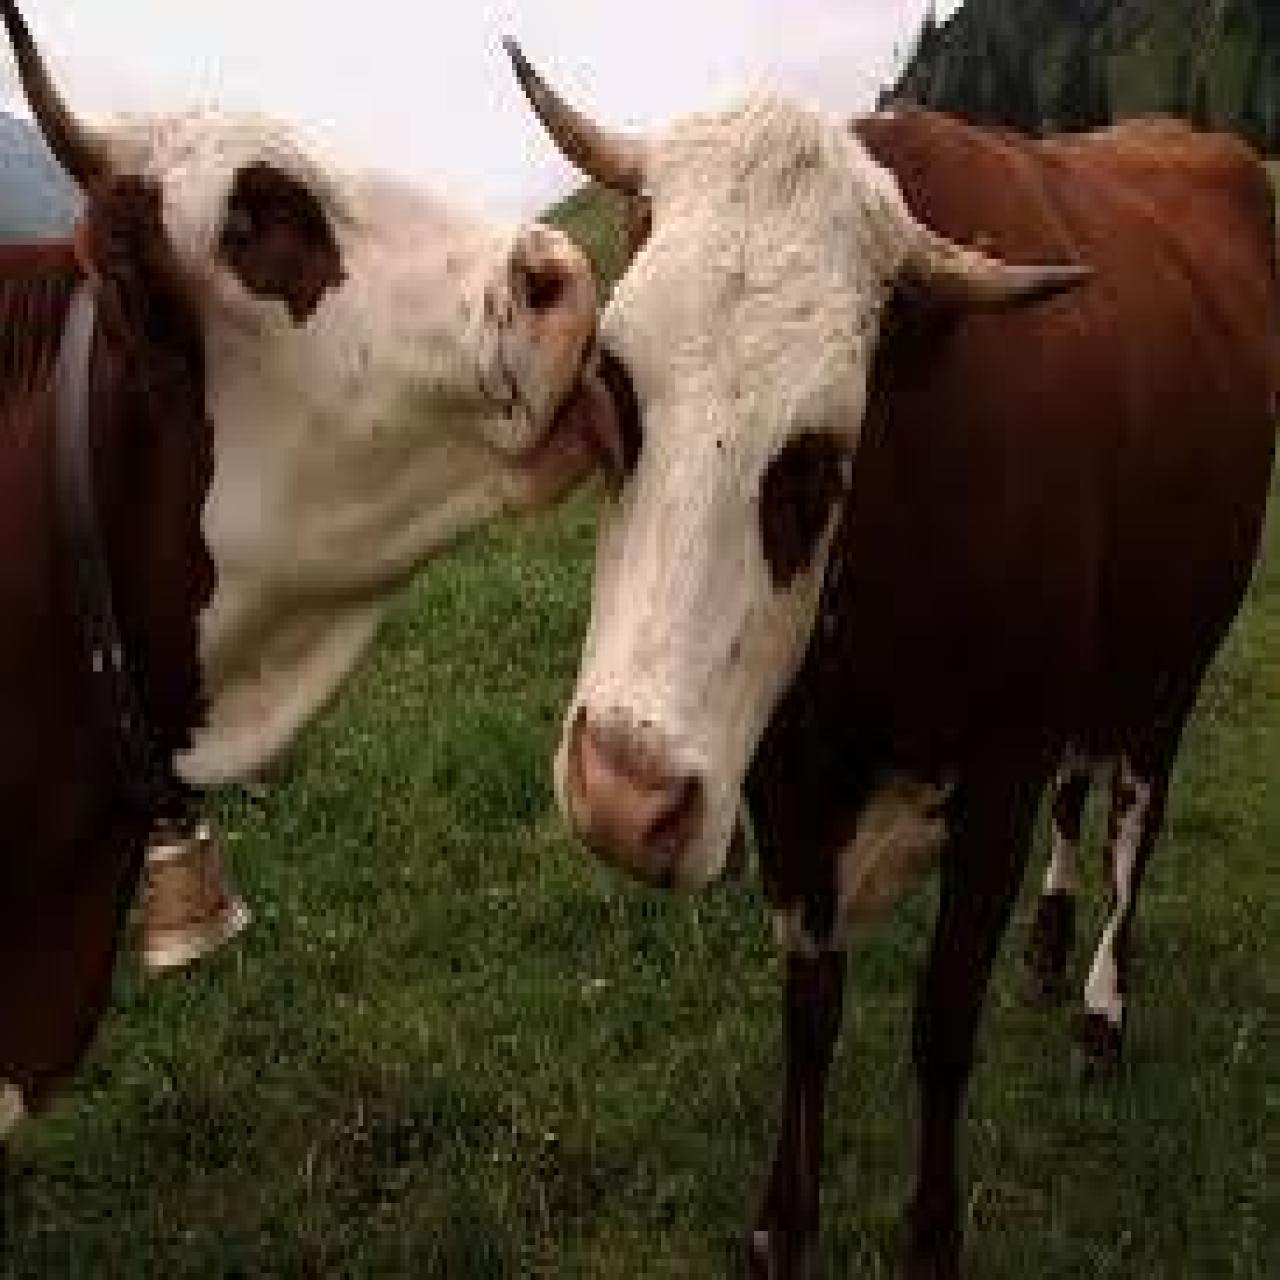cow: (493, 4, 1280, 1276), (0, 0, 624, 1148)
